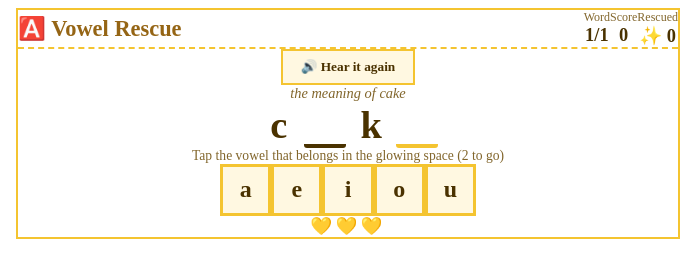
Scenario: Vowel Rescue › costs a try for a wrong vowel, and shows the word after three
Expected: the element named "tries left on this word" reads "💛💛💛", [310,216,386,236]
Click the button "o".
click(399, 190)  # box [374,164,425,216]
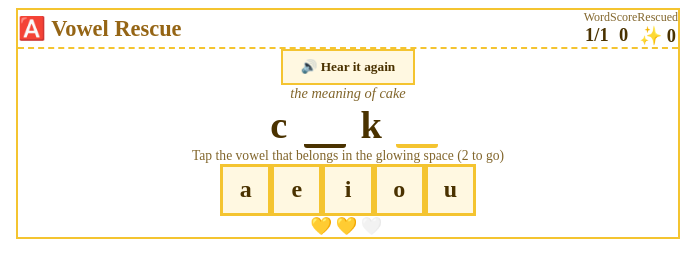
Now the element named "2 tries left on this word" is shown, box [310,216,386,236]
Click the button "i".
click(348, 190)  # box [322,164,374,216]
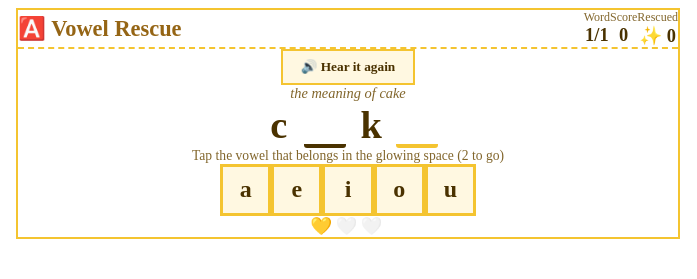
Click the button "u".
click(450, 190)  # box [425,164,476,216]
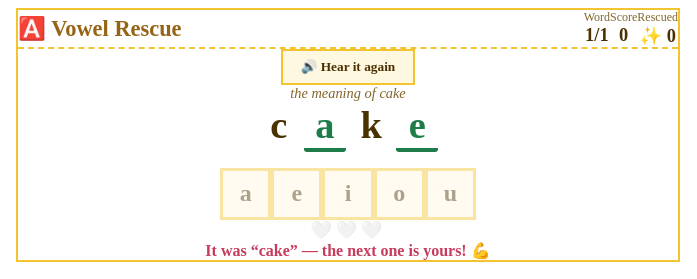
Now the text "It was “cake” — the next one is yours! 💪" is shown, box [205,242,491,259]
